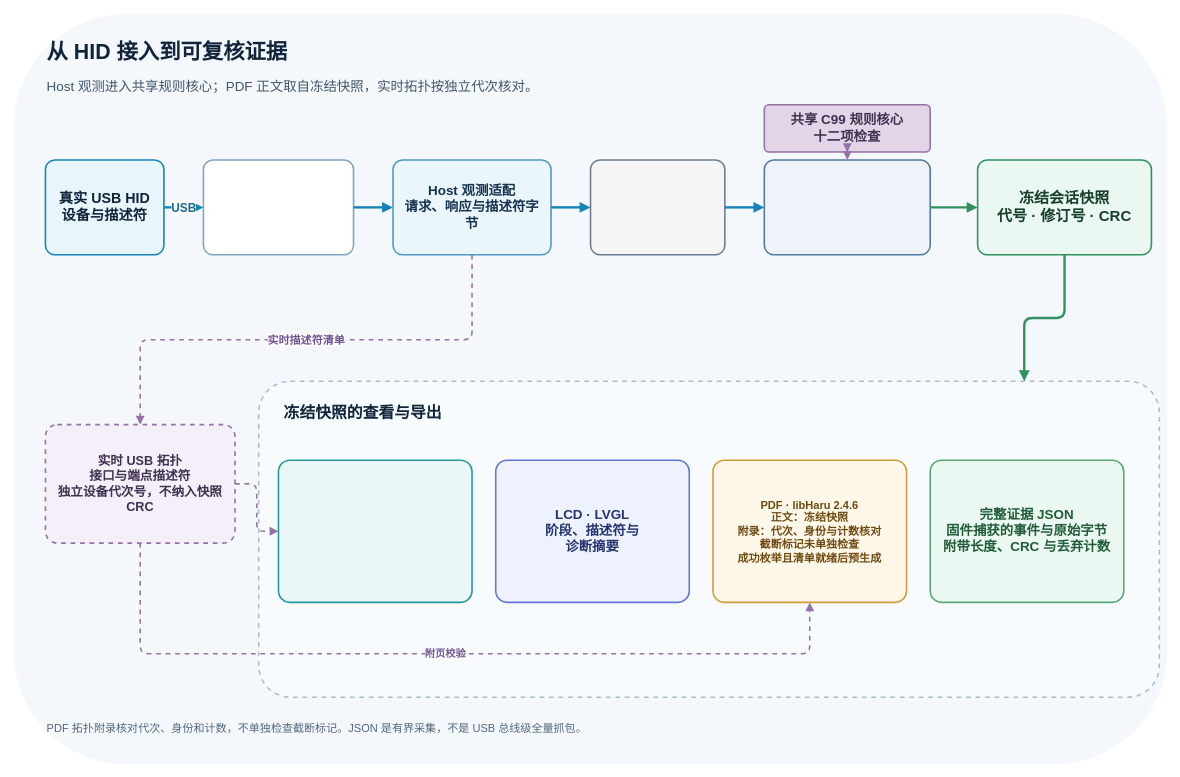
Image size: 1180x777. Some labels were removed from this diagram. The shapes that lost their labels are listed below. From the top down, each one's box as (x1, y1, x2, y2) in pixels, then its label:
(202, 159, 354, 255): CherryUSB Host 控制传输与枚举
(589, 159, 725, 255): 有界事件队列 采集事件与状态
(763, 159, 931, 255): RT-Thread 分析线程
(277, 459, 472, 603): Web · Mongoose HID 接入、教学与研发核验 实时 USB 拓扑与证据页
